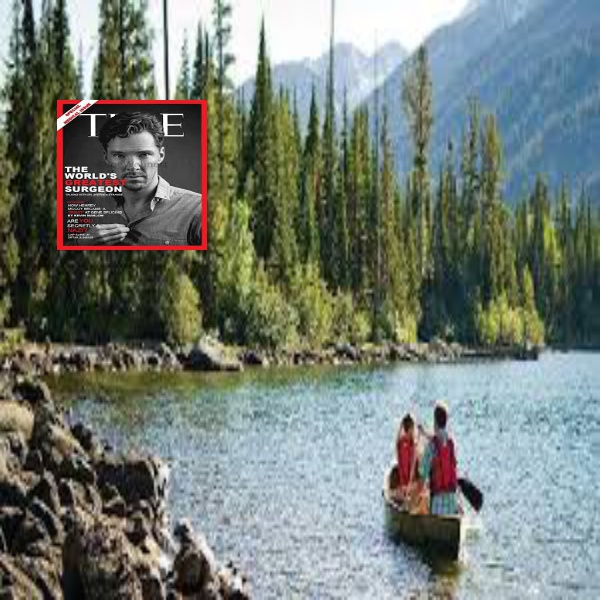time_cover: (49, 86, 203, 256)
